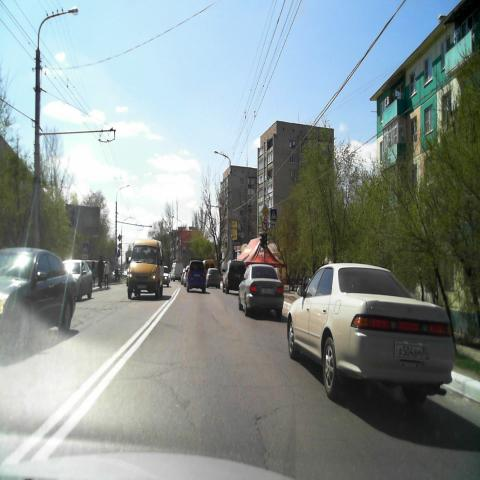2_1: (261, 204, 269, 218)
3_18_2: (262, 220, 268, 231)
5_19_1: (270, 210, 277, 221), (82, 243, 88, 252)
